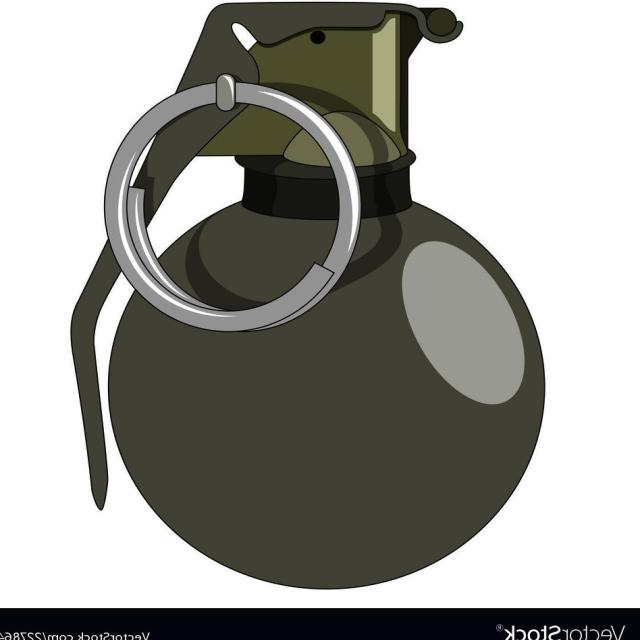grenade: (72, 1, 546, 590)
